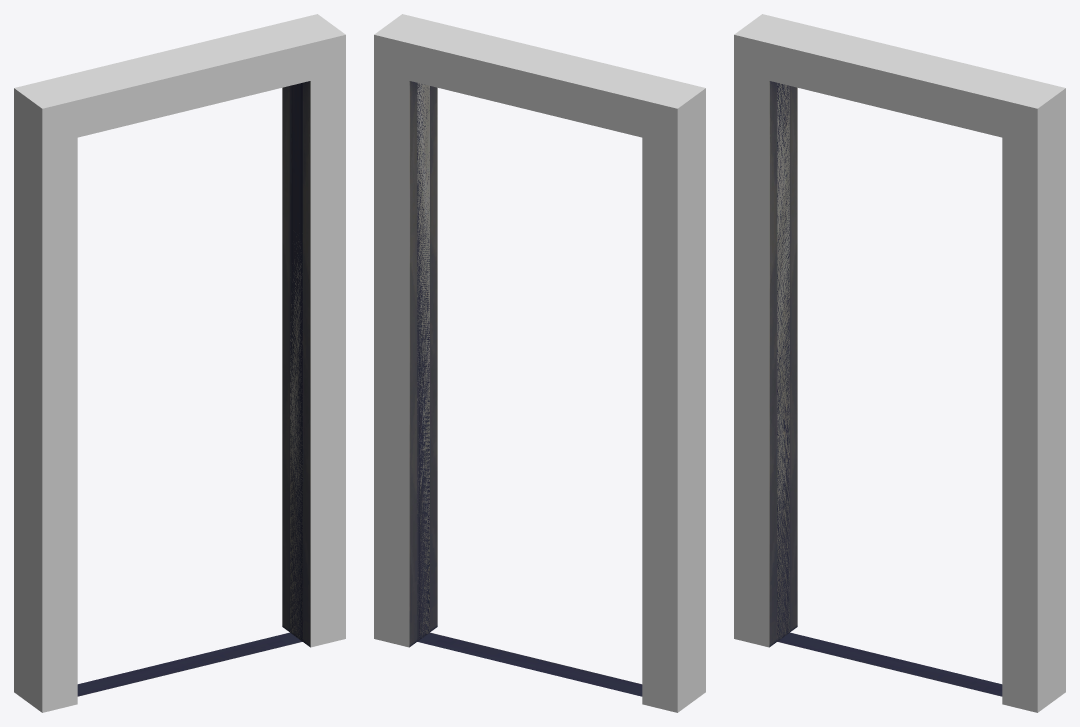
File: marcoPuertaPrincipal.fbx
3 renders of one model, left to right at view 1: azimuth 30°, elevation 25°; view 2: azimuth 150°, elevation 25°; view 3: azimuth 330°, elevation 25°, orthographic.
Visible parts, largest first — view 1: marcoPuertaPrincipal; view 2: marcoPuertaPrincipal; view 3: marcoPuertaPrincipal.
Part boxes in pixels (<box>): marcoPuertaPrincipal: <box>14,14,345,712</box>; marcoPuertaPrincipal: <box>374,14,705,712</box>; marcoPuertaPrincipal: <box>734,14,1065,712</box>.
Bounding box in the file's own units: 120 × 228 × 19.39.
Materials: 3 (1 with a texture image).
